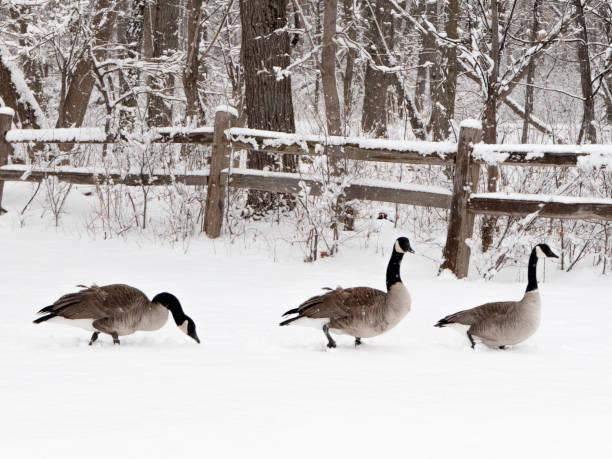Canadian-Goose: (281, 237, 425, 349), (435, 244, 562, 350), (29, 278, 199, 356)
